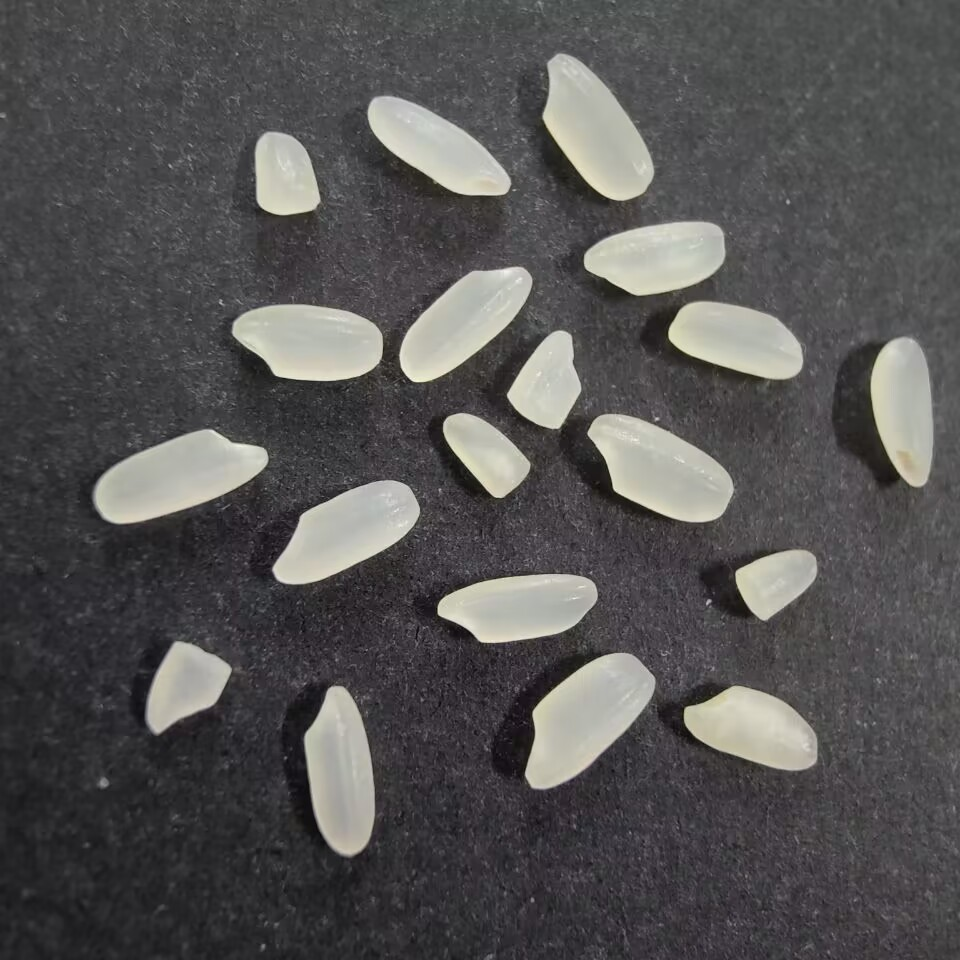broken: (139, 637, 238, 739), (438, 408, 534, 500), (502, 327, 584, 432), (247, 127, 326, 220), (731, 544, 820, 625)
rice: (517, 649, 658, 794), (89, 425, 271, 529), (537, 50, 657, 205), (583, 411, 737, 529), (269, 474, 423, 589), (395, 263, 536, 386), (361, 92, 511, 200), (300, 684, 382, 862), (679, 681, 826, 778), (227, 300, 387, 384), (432, 566, 602, 645), (583, 216, 731, 299), (665, 297, 808, 382), (871, 331, 941, 490)
